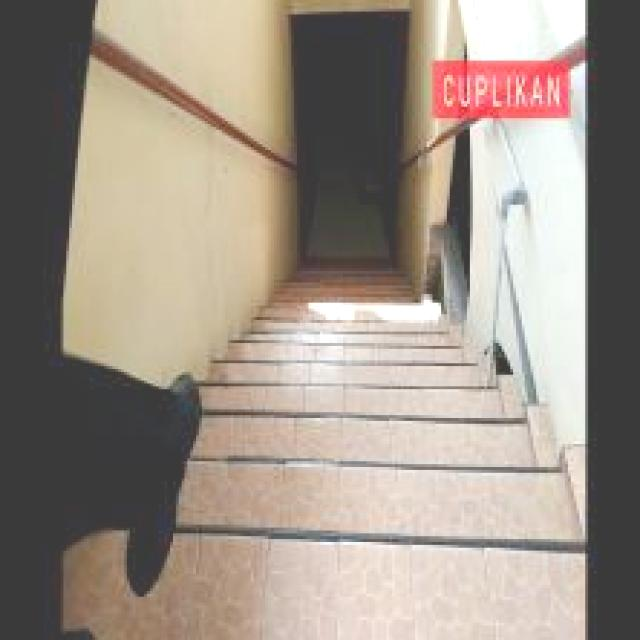downstair: (226, 301, 491, 540)
